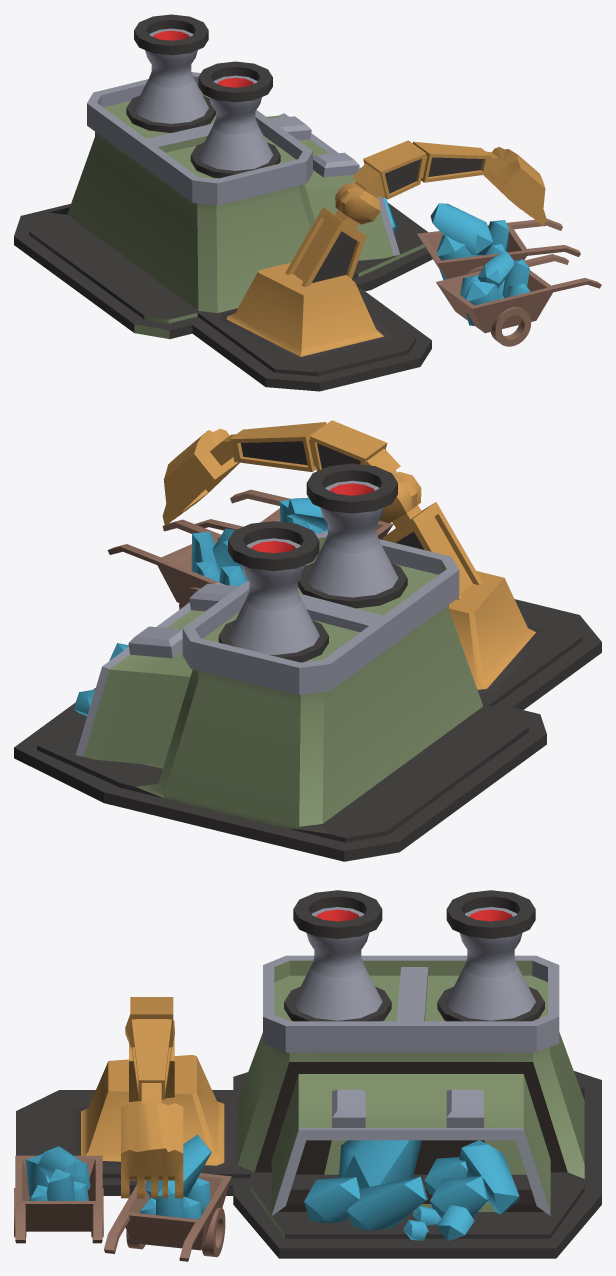
The picture shows the model from 3 angles, top to bottom: view 1: azimuth 30°, elevation 25°; view 2: azimuth 150°, elevation 25°; view 3: azimuth 270°, elevation 25°; orthographic projection. The views are drawn at different scales.
Visible parts, largest first — view 1: 圆锥_4; view 2: 圆锥_4; view 3: 圆锥_4.
Boxes of the visible parts, bbox=[...] form: 圆锥_4: bbox=[14, 14, 601, 391]; 圆锥_4: bbox=[14, 420, 601, 861]; 圆锥_4: bbox=[14, 890, 601, 1261].
Size of the model in its own units: 219 by 109 by 238.
